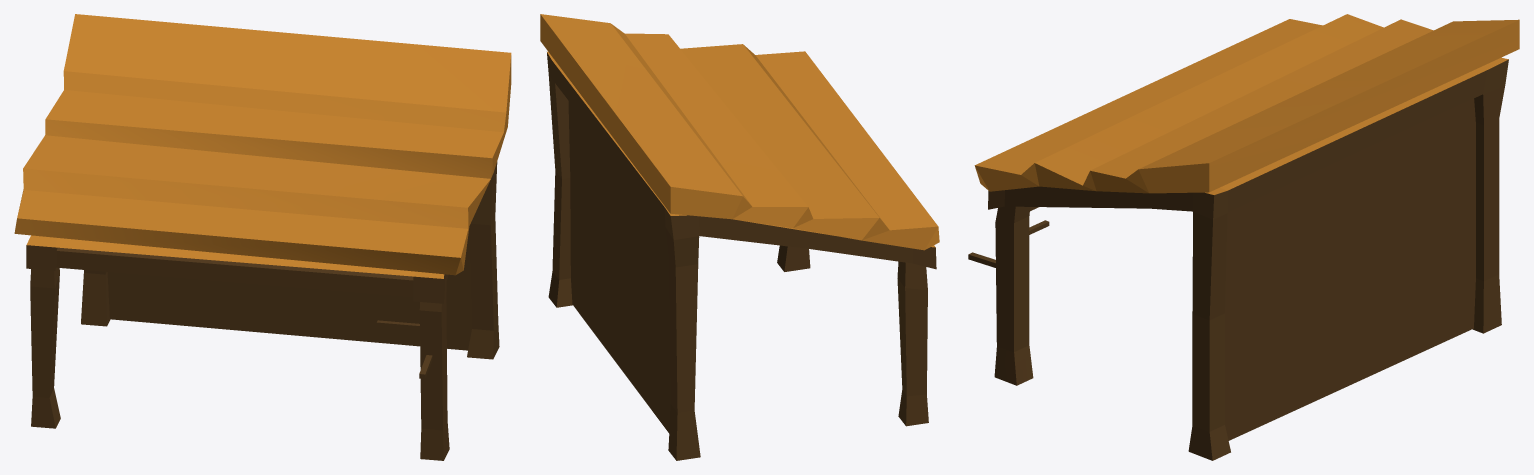
Rendered from storage.glb.
3 renders of one model, left to right at view 1: azimuth 30°, elevation 25°; view 2: azimuth 150°, elevation 25°; view 3: azimuth 270°, elevation 25°, orthographic. The views are drawn at different scales.
Parts seen in each view (by area): view 1: storage; view 2: storage; view 3: storage.
Part boxes in pixels (x1=…): storage: x1=14, y1=14, x2=511, y2=460; storage: x1=540, y1=14, x2=939, y2=460; storage: x1=968, y1=14, x2=1519, y2=460.
Bounding box in the file's own units: 7.03 × 4.33 × 7.09.
